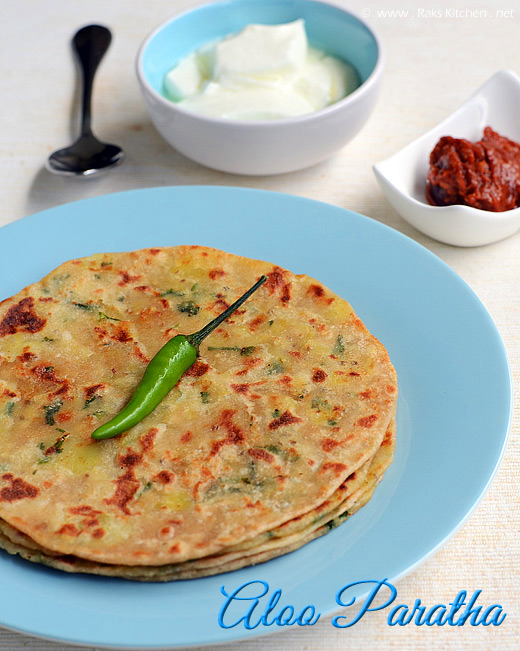aloo_paratha: (1, 244, 399, 582)
